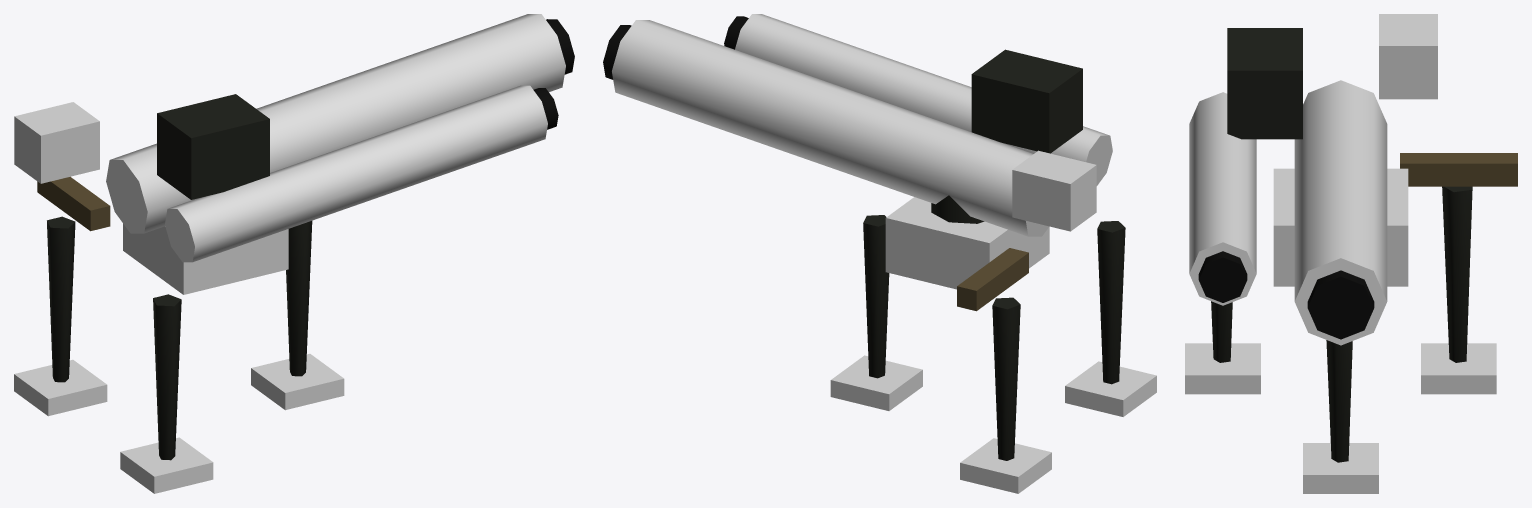
File: m_atgm_4b3ce756.glb
3 views of the same model, side by side, from view 1: azimuth 30°, elevation 25°; view 2: azimuth 150°, elevation 25°; view 3: azimuth 270°, elevation 25° (orthographic). The views are drawn at different scales.
Parts seen in each view (by area): view 1: mesh; view 2: mesh; view 3: mesh.
Part boxes in pixels (left/top/right/bottom): mesh: left=14, top=14, right=574, bottom=493; mesh: left=603, top=14, right=1156, bottom=493; mesh: left=1185, top=14, right=1517, bottom=493.
Size of the model in its own units: 7.68 by 4.85 by 3.95.
